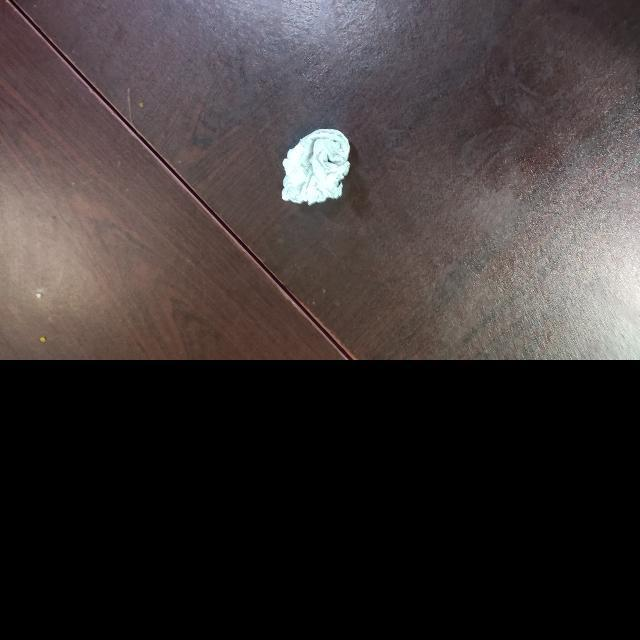kitchen paper: (283, 128, 352, 209)
